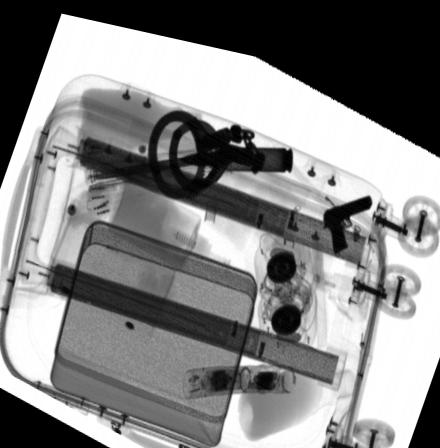Baton: (179, 352, 297, 393)
Bullet: (178, 135, 293, 161)
HandCuffs: (148, 101, 265, 193)
